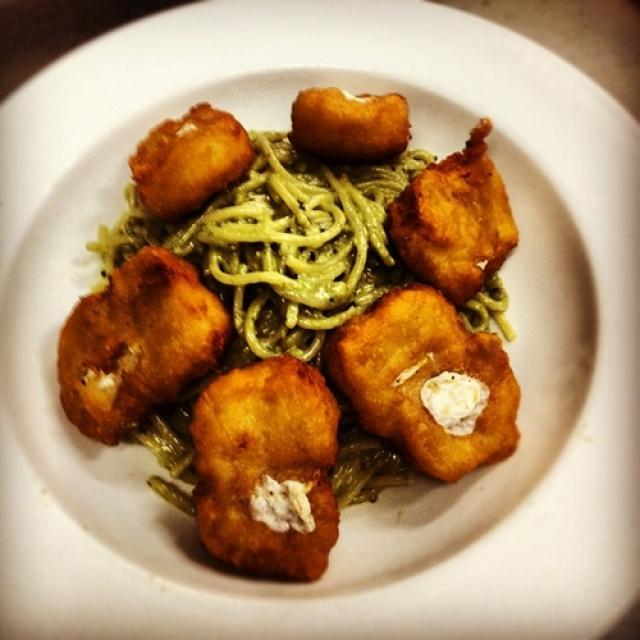鸡肉料理 含炸鸡: (40, 45, 562, 599)
